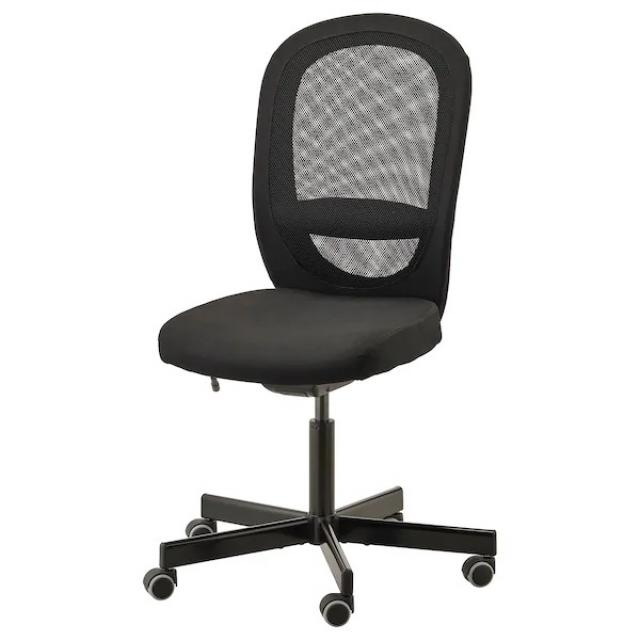Chair: (145, 13, 499, 628)
